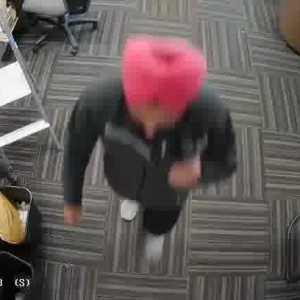person: (60, 47, 226, 258)
